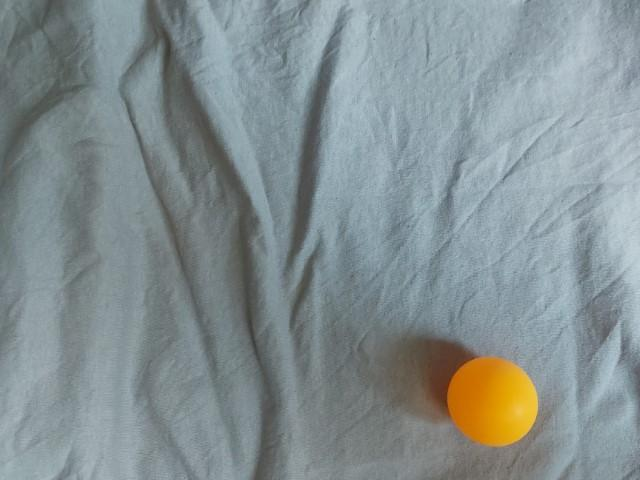oball: (94, 28, 200, 129)
